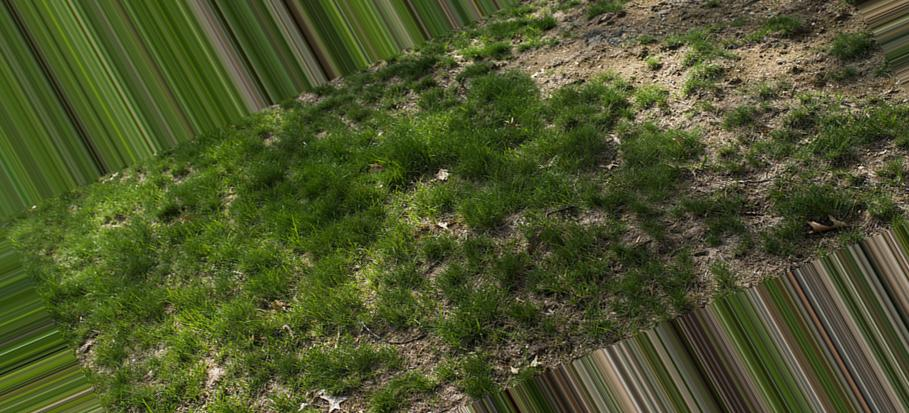patch: (342, 334, 493, 406), (161, 282, 255, 397), (727, 28, 878, 85), (529, 49, 710, 91), (386, 173, 493, 229), (622, 190, 726, 225), (680, 112, 755, 133)
